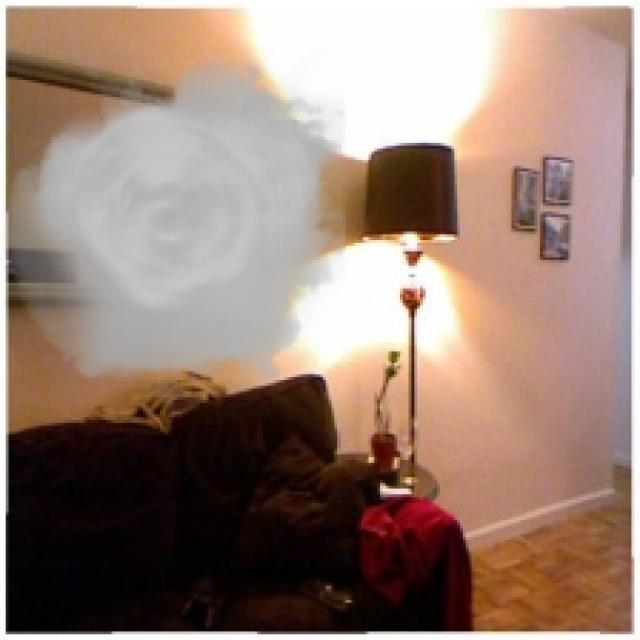Smoke: (3, 46, 346, 397)
